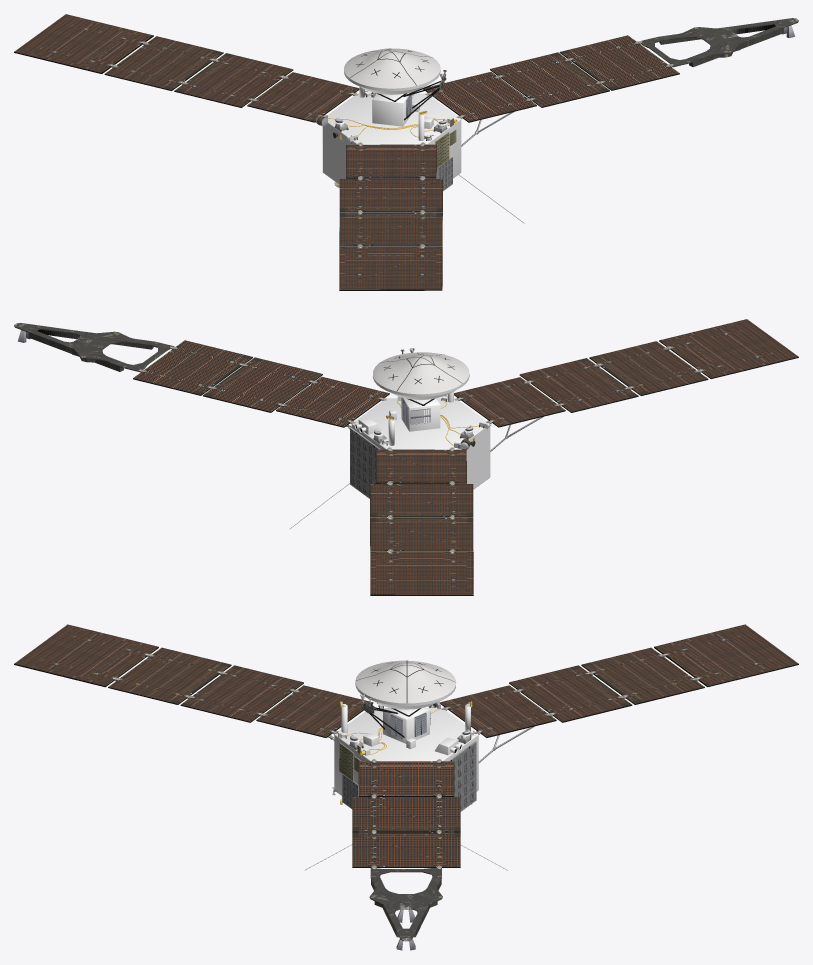
Rendered from juno.glb.
3 renders of one model, top to bottom at view 1: azimuth 30°, elevation 25°; view 2: azimuth 150°, elevation 25°; view 3: azimuth 270°, elevation 25°, orthographic. The views are drawn at different scales.
Visible parts, largest first — view 1: shiny_panels, dish_bottom, dish_top, solar_panels, silver_foil.003, black_krinkle; view 2: shiny_panels, dish_bottom, dish_top, silver_foil.003, solar_panels, black_krinkle; view 3: shiny_panels, dish_bottom, silver_foil.003, dish_top, solar_panels, black_krinkle.
Boxes of the visible parts, left/top/right/bottom form: shiny_panels: left=14, top=14, right=679, bottom=289; dish_bottom: left=322, top=70, right=461, bottom=184; dish_top: left=344, top=48, right=440, bottom=88; solar_panels: left=339, top=18, right=798, bottom=290; silver_foil.003: left=110, top=25, right=794, bottom=248; black_krinkle: left=14, top=35, right=679, bottom=290; shiny_panels: left=133, top=319, right=798, bottom=594; dish_bottom: left=351, top=374, right=490, bottom=489; dish_top: left=373, top=352, right=469, bottom=394; silver_foil.003: left=17, top=330, right=702, bottom=552; solar_panels: left=14, top=323, right=473, bottom=551; black_krinkle: left=133, top=340, right=798, bottom=595; shiny_panels: left=14, top=624, right=798, bottom=866; dish_bottom: left=334, top=682, right=478, bottom=804; silver_foil.003: left=112, top=653, right=699, bottom=950; dish_top: left=355, top=660, right=455, bottom=703; solar_panels: left=369, top=868, right=442, bottom=941; black_krinkle: left=14, top=647, right=798, bottom=867.
Size of what is drawn, in the model's own units: 17.65 by 4.26 by 18.54.
12 materials, 12 textured.
